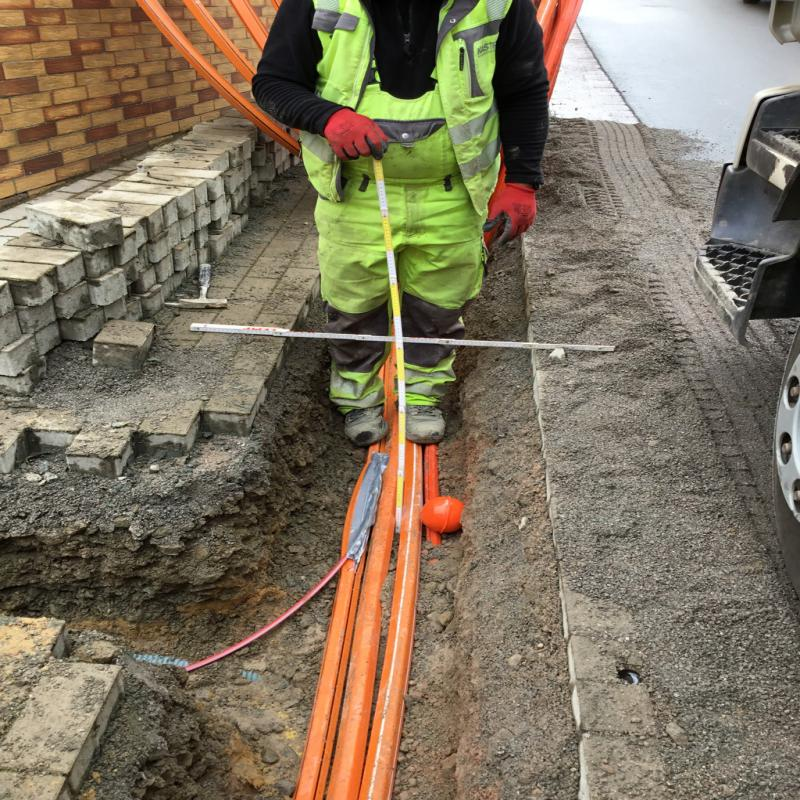Kugelmarker: (419, 496, 463, 533)
Orang-Speednetrohrchen: (296, 449, 438, 800)
